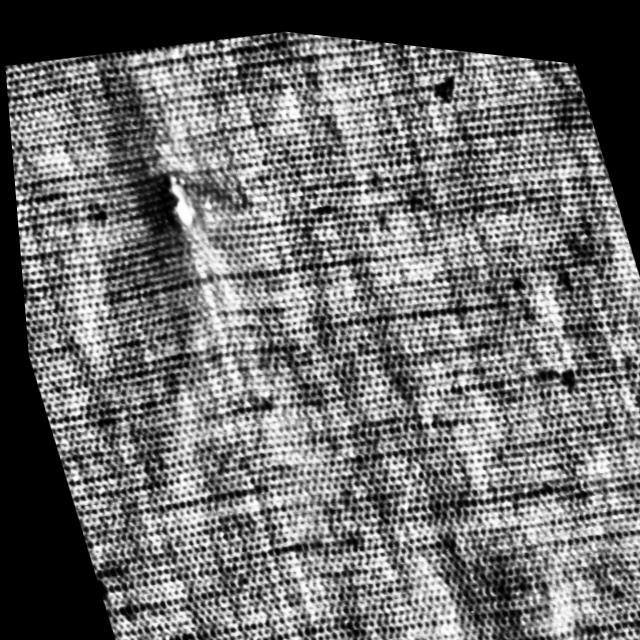Hole: (153, 160, 199, 228)
